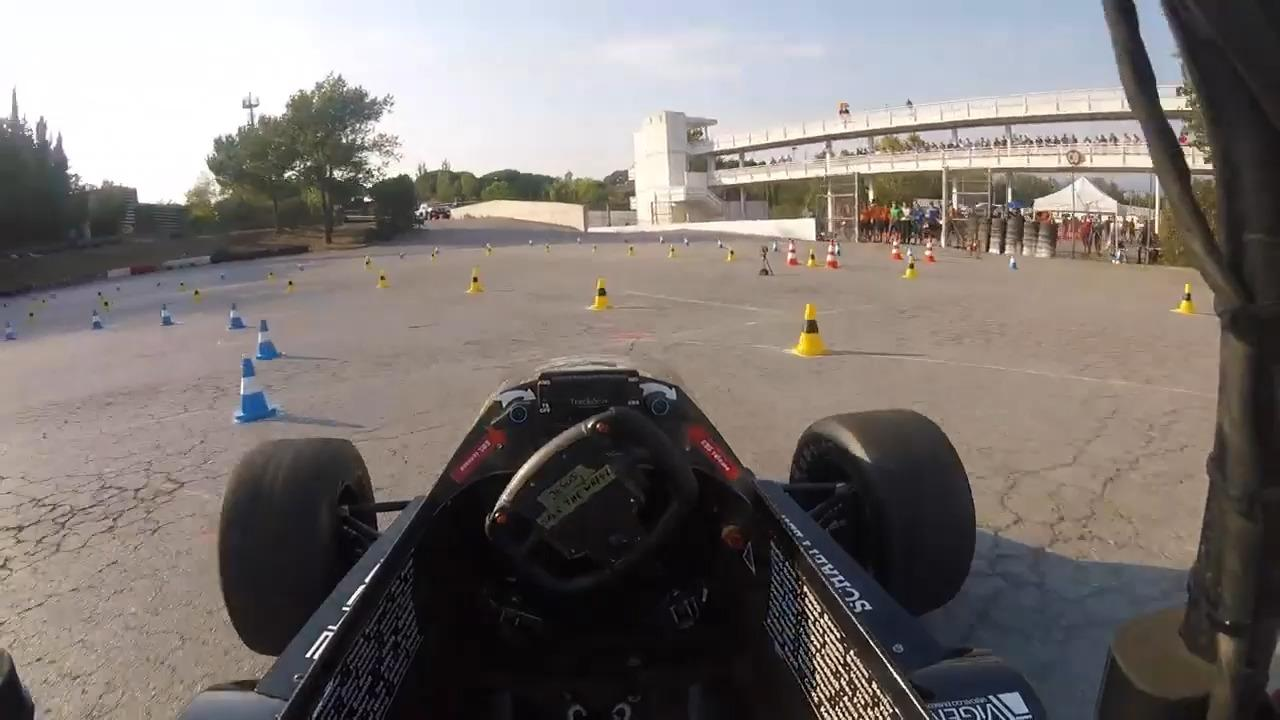blue_cone: (224, 355, 279, 425), (250, 320, 283, 360), (224, 300, 247, 332), (154, 302, 174, 328), (88, 310, 103, 331), (4, 320, 16, 344), (1006, 255, 1022, 273), (905, 242, 918, 261), (770, 237, 783, 256)
large_orange_cone: (824, 240, 841, 271), (783, 239, 799, 267), (922, 240, 939, 265), (890, 239, 903, 260)
yellow_cone: (789, 304, 837, 359), (1168, 283, 1197, 317), (588, 277, 615, 312), (463, 266, 486, 294), (902, 259, 919, 281), (375, 268, 391, 290), (804, 246, 819, 268), (283, 275, 297, 296), (23, 307, 37, 326), (725, 246, 738, 263), (192, 288, 205, 303), (666, 244, 678, 260), (104, 300, 115, 317), (627, 243, 639, 257)
